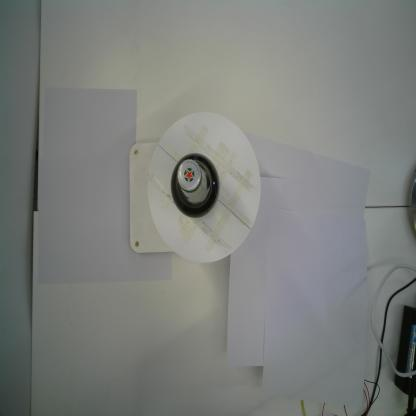Alcohol: (170, 152, 219, 220)
